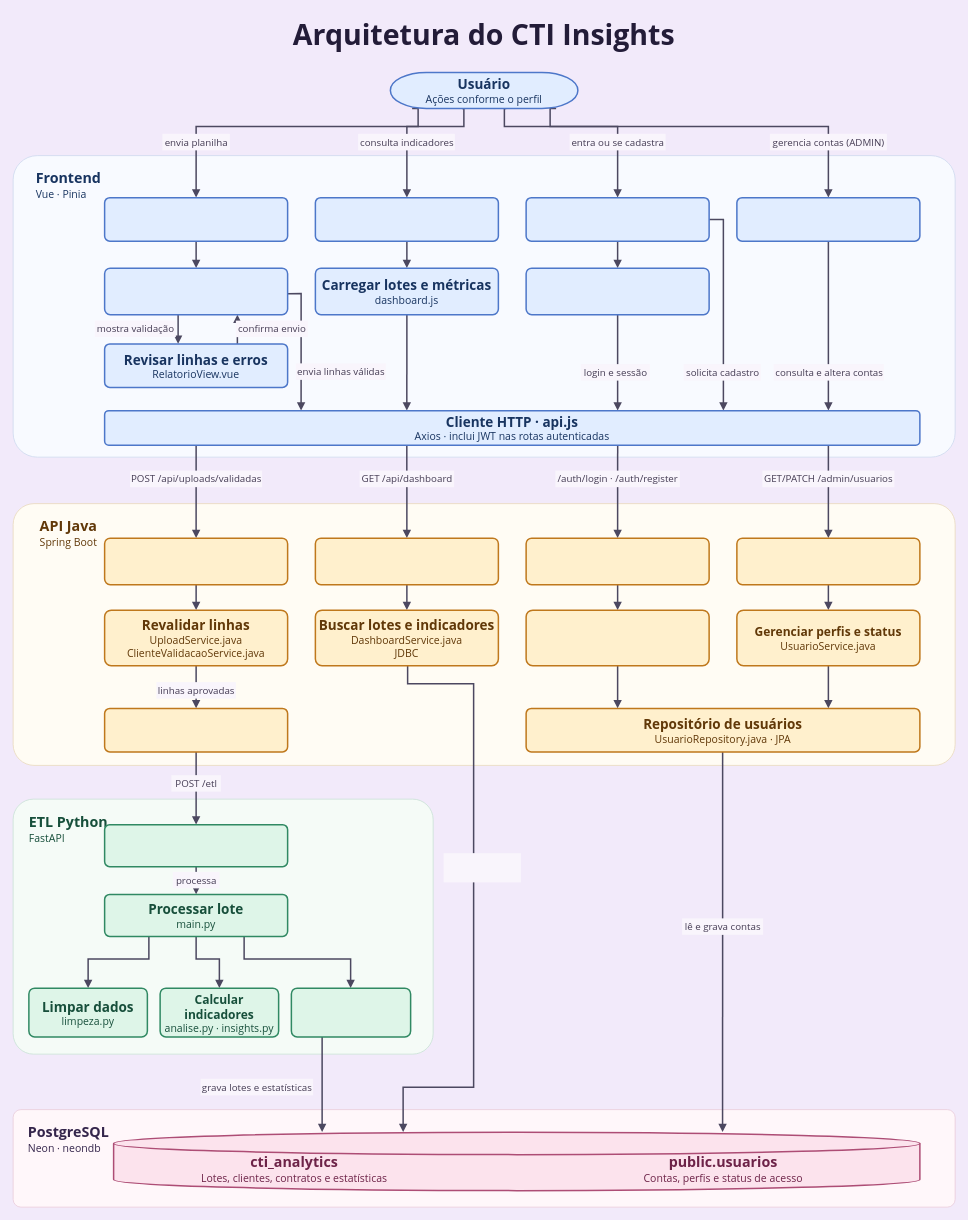
The diagram is 968 pixels wide and 1220 high, and some of its shapes have lost their labels. Each missing label, with the centre of its shape:
"Administrar usuários AdminUsuariosView.vue" goes at point (828, 219).
"Autenticar ou cadastrar AuthController.java" goes at point (617, 561).
"Consultar dashboard DashboardController.java" goes at point (406, 561).
"Endpoint de ETL api.py · POST /etl" goes at point (196, 845).
"Entrar ou cadastrar-se LoginView.vue · CadastroView.vue" goes at point (617, 219).
"Enviar lote aprovado PythonEtlService.java" goes at point (196, 729).
"Enviar planilha UploadView.vue" goes at point (196, 219).
"Gerenciar contas AdminUsuarioController.java" goes at point (828, 561).
"Gerenciar sessão auth.js" goes at point (617, 291).
"Ler e validar a planilha upload.js · planilha.js" goes at point (196, 291).
"lê lotes, clientes e indicadores" goes at point (481, 867).
"Persistir lote banco.py" goes at point (350, 1012).
"Receber upload UploadController.java" goes at point (196, 561).
"Validar acesso e emitir JWT AuthService.java JwtService.java" goes at point (617, 637).
"Visualizar indicadores DashboardView.vue" goes at point (406, 219).
